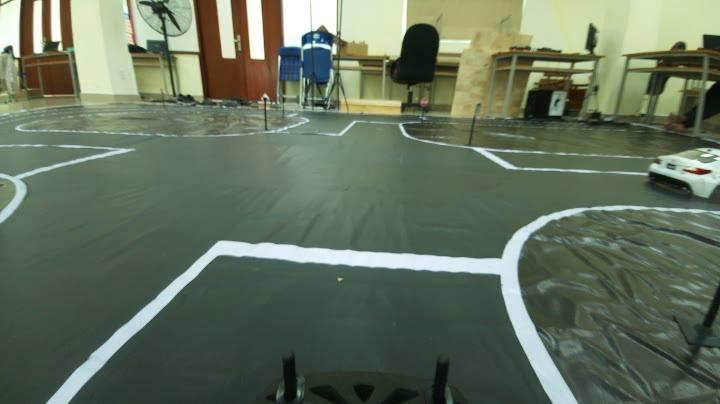car: (646, 136, 720, 198)
